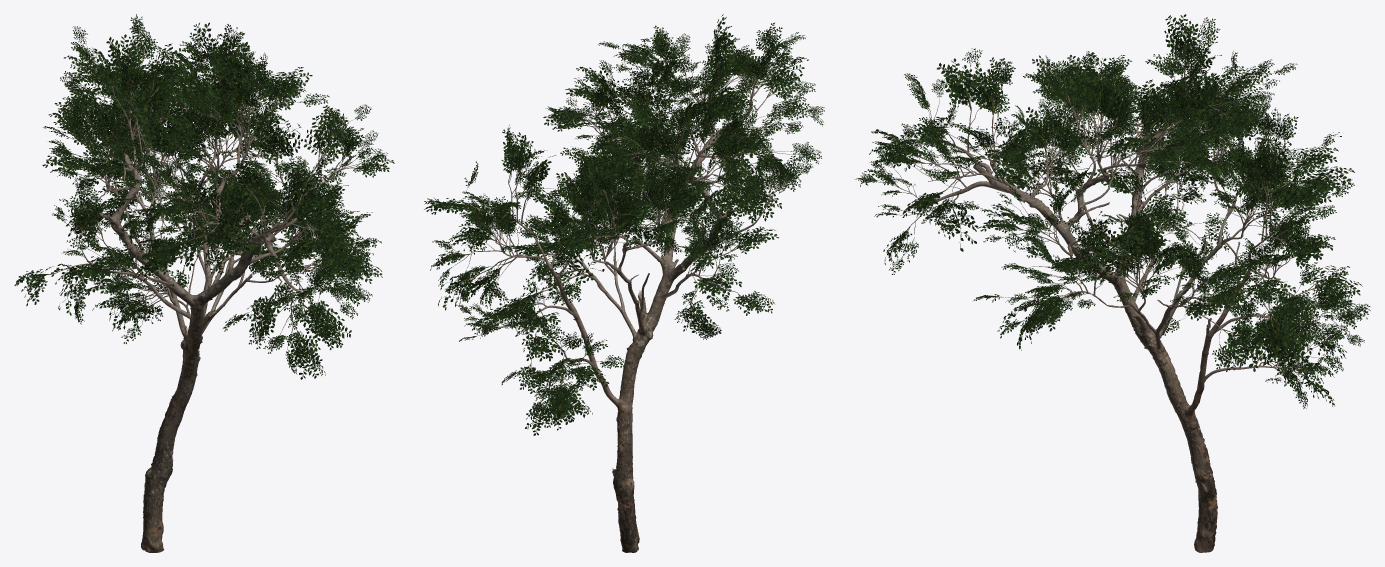
File: organic-tree_small_02.glb
3 renders of one model, left to right at view 1: azimuth 30°, elevation 25°; view 2: azimuth 150°, elevation 25°; view 3: azimuth 270°, elevation 25°, orthographic. The views are drawn at different scales.
Visible parts, largest first — view 1: canopy-near; view 2: canopy-near; view 3: canopy-near.
Boxes of the visible parts, bbox=[...] form: canopy-near: bbox=[14, 14, 394, 552]; canopy-near: bbox=[424, 14, 824, 552]; canopy-near: bbox=[854, 14, 1370, 552].
Bounding box in the file's own units: 2.92 × 4.56 × 4.29.
Materials: 3 (3 with a texture image).
